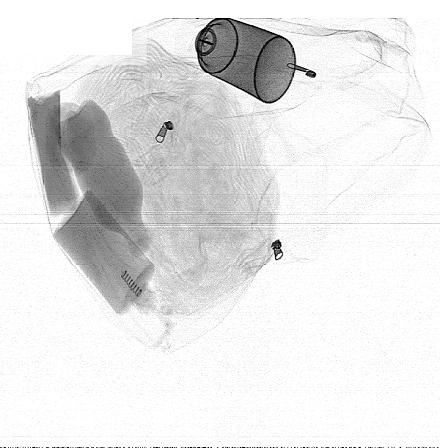Sprayer: (175, 7, 296, 105)
